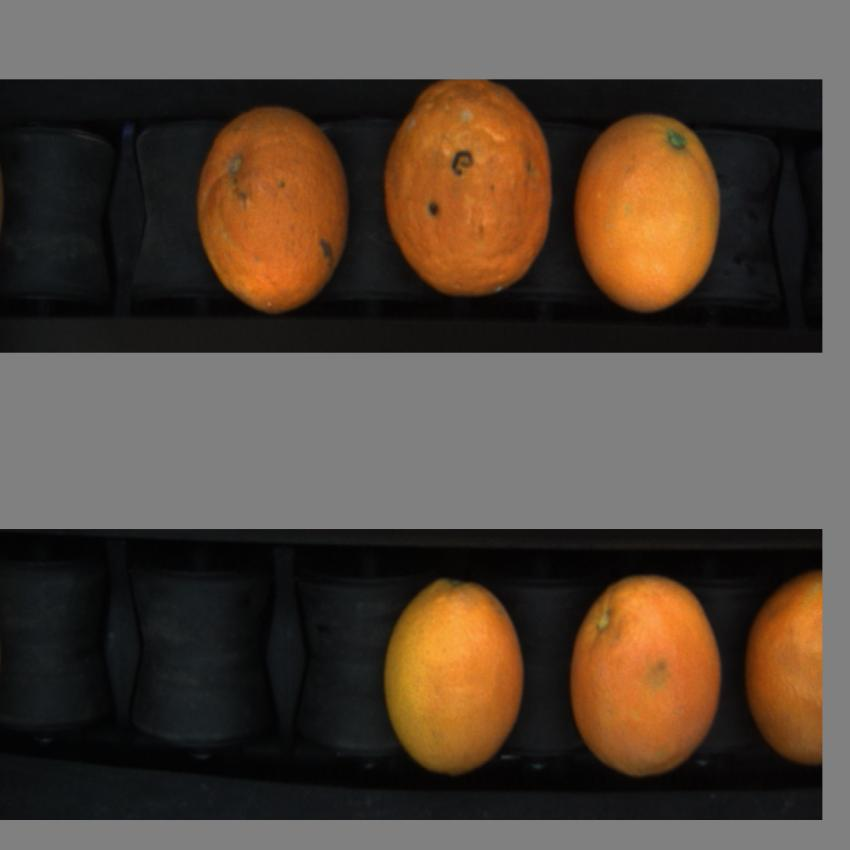Buen estado: (559, 559, 726, 794), (186, 92, 354, 321), (374, 566, 540, 790), (570, 103, 731, 324), (744, 559, 824, 796)
Mal estado: (377, 85, 564, 308)
